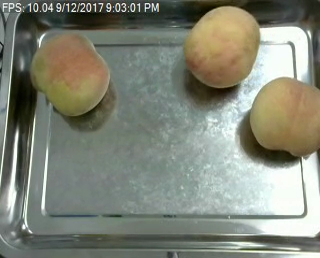Peach: (30, 32, 110, 115), (184, 4, 261, 87), (249, 75, 320, 156)
